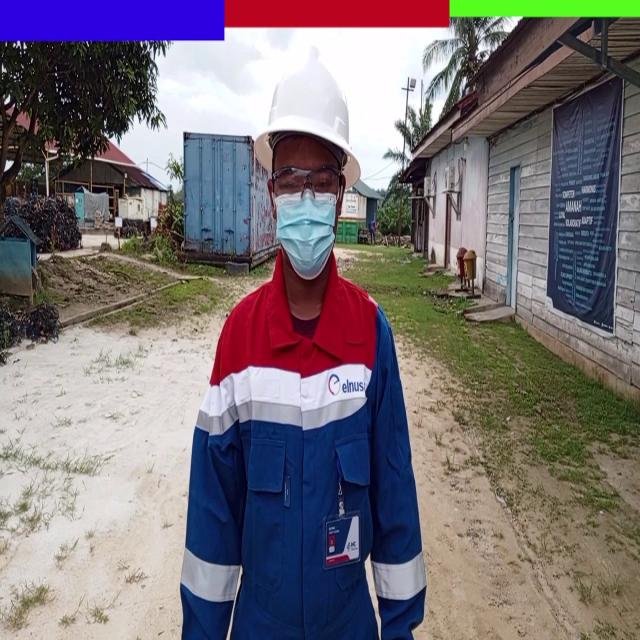Hardhat: (255, 49, 362, 194)
Mask: (276, 193, 336, 282)
Overall Suit: (181, 290, 427, 640)
